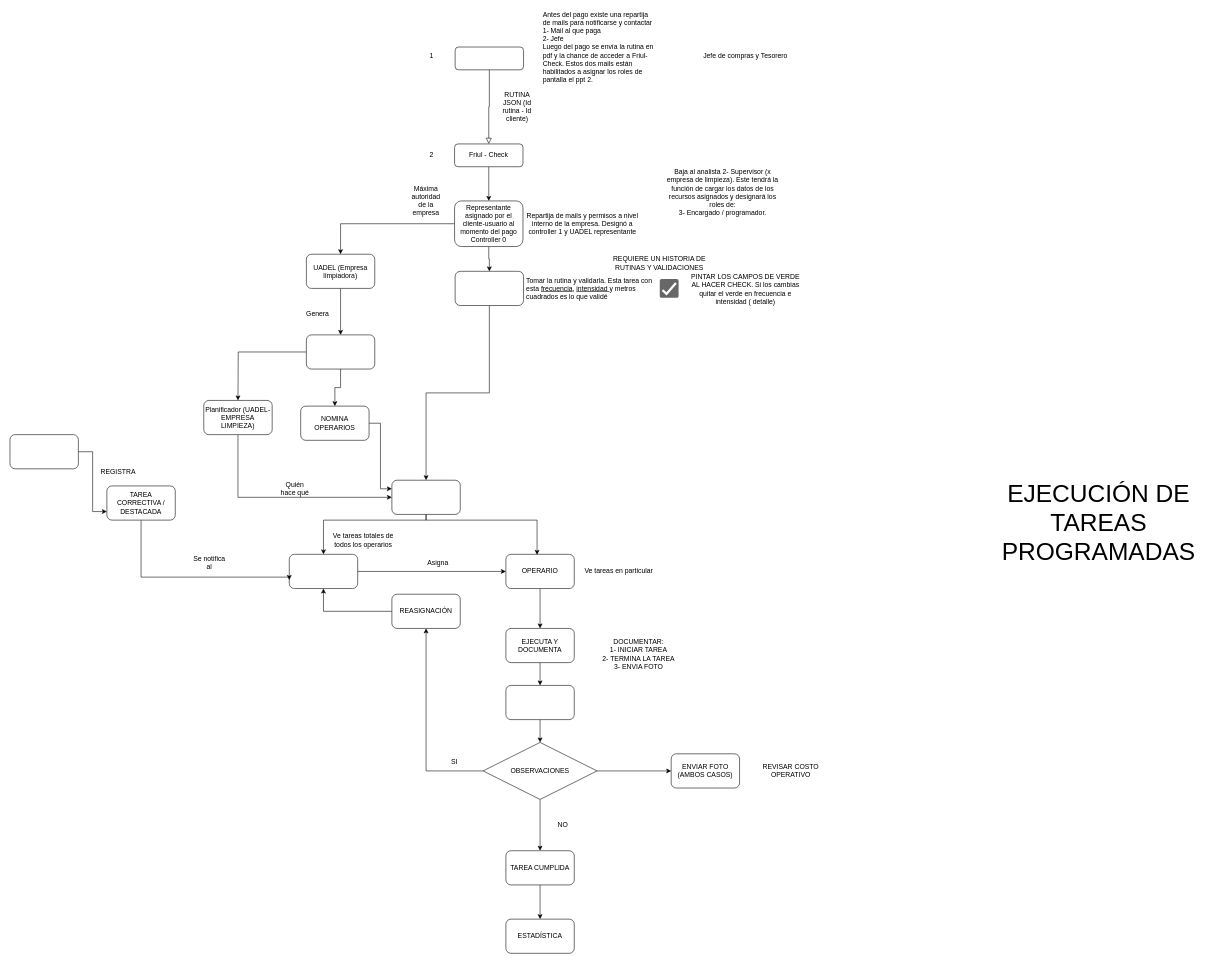
Some shapes in this 1205 by 963 pixel diagram are drawn without their labels. Each missing label, with the centre of its shape:
"CONTROLLER 1" belongs at point 43,451.
"ENCARGADO" belongs at point 323,571.
"Friul - Planner" belongs at point 489,58.
"PLANIFICACIÓN (tareas validadas)" belongs at point 425,497.
"RRHH" belongs at point 340,351.
"TAREA RESUELTA" belongs at point 539,702.
"VALIDACIÓN RUTINA (rol controller 1)" belongs at point 489,288.
